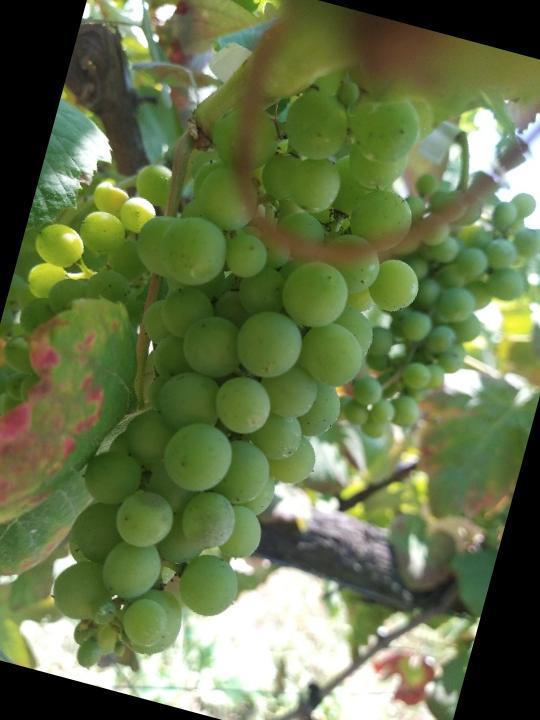grape: (19, 36, 471, 720)
